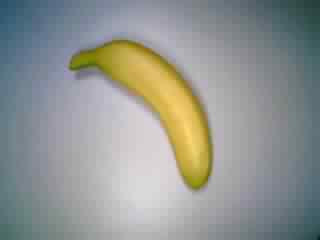banana: (62, 36, 220, 196)
